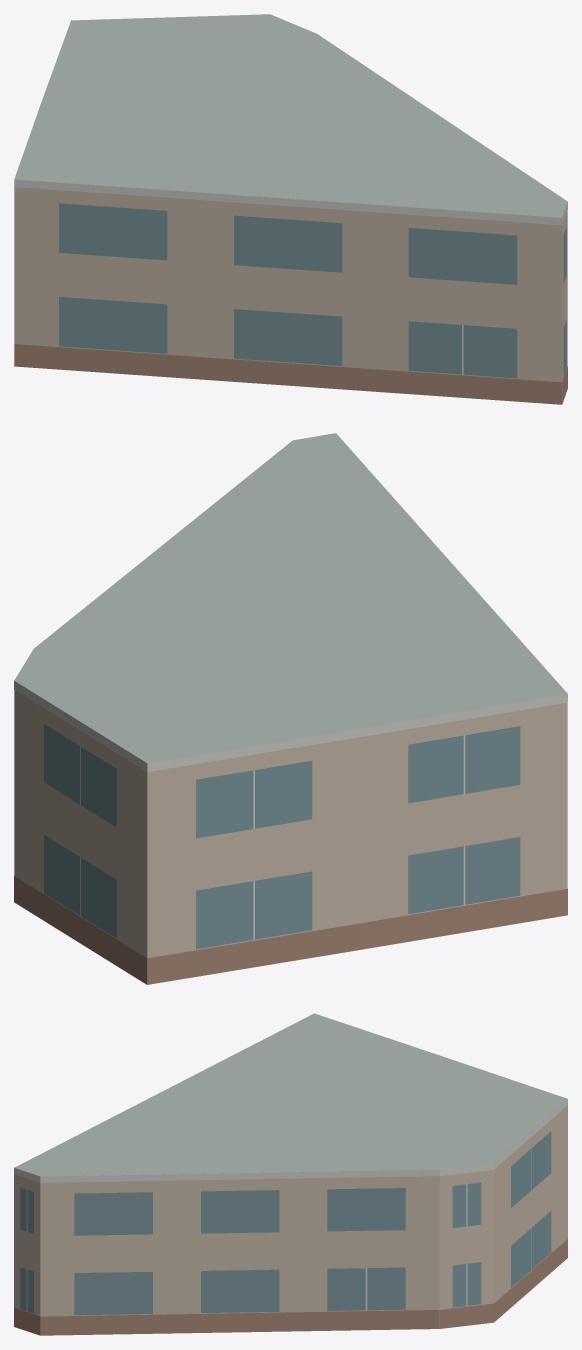
Rendered from survey-upis-32884058.glb.
3 views of the same model, one above another, from view 1: azimuth 30°, elevation 25°; view 2: azimuth 150°, elevation 25°; view 3: azimuth 270°, elevation 25° (orthographic). The views are drawn at different scales.
Parts seen in each view (by area): view 1: survey-upis-32884058.tmp; view 2: survey-upis-32884058.tmp; view 3: survey-upis-32884058.tmp.
Boxes of the visible parts, <box> form: survey-upis-32884058.tmp: <box>14,14,567,404</box>; survey-upis-32884058.tmp: <box>14,433,567,984</box>; survey-upis-32884058.tmp: <box>14,1013,567,1335</box>.
Bounding box in the file's own units: 13.43 × 6.1 × 19.25.
